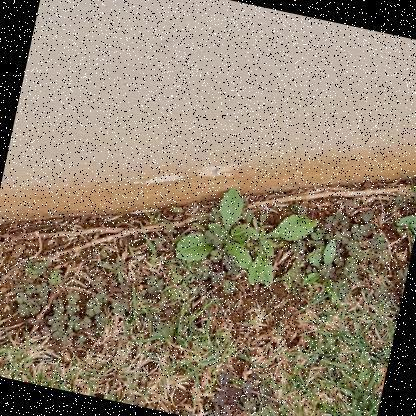Weeds: (172, 175, 266, 278), (223, 198, 319, 297)
